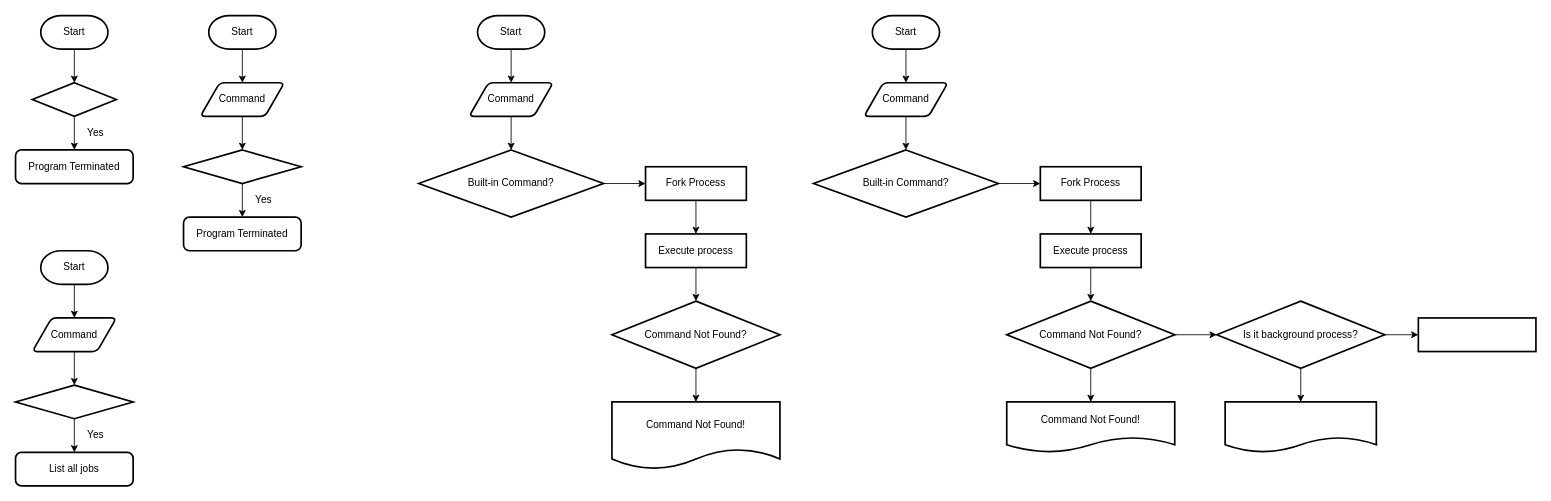
Image size: 1551x501. Some labels were removed from this diagram. Each missing label, with the box of its shape:
(jid) (pid) process name: (1224, 401, 1377, 453)
Ctrl+d ?: (31, 81, 117, 117)
Hit "jobs"?: (14, 384, 134, 419)
Hit "quit"?: (182, 149, 302, 184)
Wait until the end: (1417, 317, 1536, 352)
